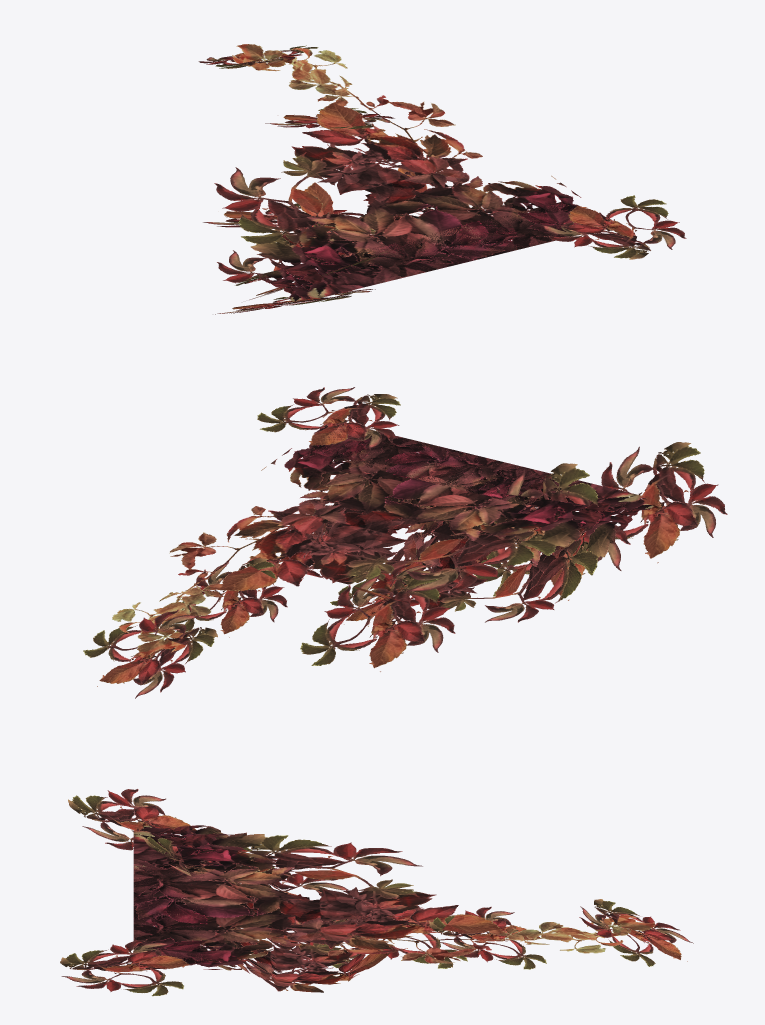
Rendered from lians.fbx.
3 renders of one model, top to bottom at view 1: azimuth 30°, elevation 25°; view 2: azimuth 150°, elevation 25°; view 3: azimuth 270°, elevation 25°, orthographic. The views are drawn at different scales.
Parts seen in each view (by area): view 1: Plane.019, lain_M, Plane.012, Lian_S; view 2: Plane.019, lain_M, Lian_S, Plane.012; view 3: Plane.019, lain_M, Lian_S, Plane.012.
Boxes of the visible parts, left/top/right/bottom form: Plane.019: left=198, top=44, right=611, bottom=314; lain_M: left=233, top=44, right=610, bottom=254; Plane.012: left=538, top=195, right=686, bottom=259; Lian_S: left=327, top=167, right=578, bottom=278; Plane.019: left=83, top=425, right=727, bottom=698; lain_M: left=112, top=425, right=646, bottom=655; Lian_S: left=277, top=421, right=557, bottom=595; Plane.012: left=257, top=387, right=400, bottom=450; Plane.019: left=68, top=789, right=693, bottom=969; lain_M: left=133, top=830, right=654, bottom=969; Lian_S: left=133, top=865, right=389, bottom=992; Plane.012: left=60, top=939, right=195, bottom=996.
Bounding box in the file's own units: 361 × 99.31 × 490.
